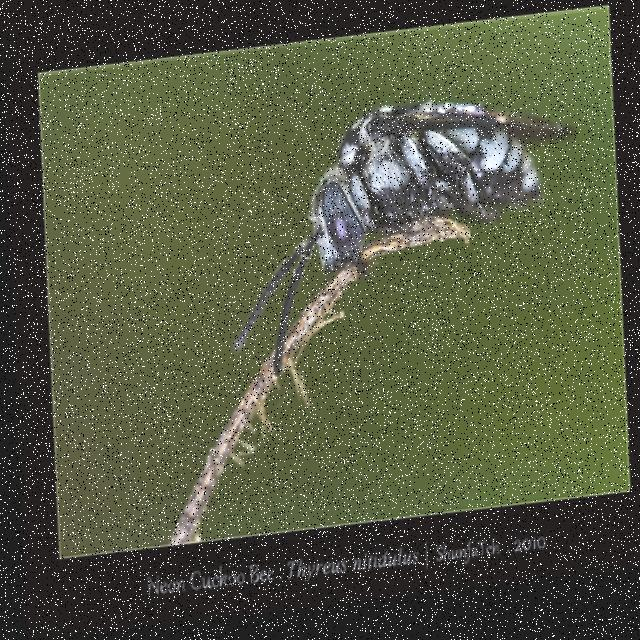Thyreus: (219, 82, 590, 399)
